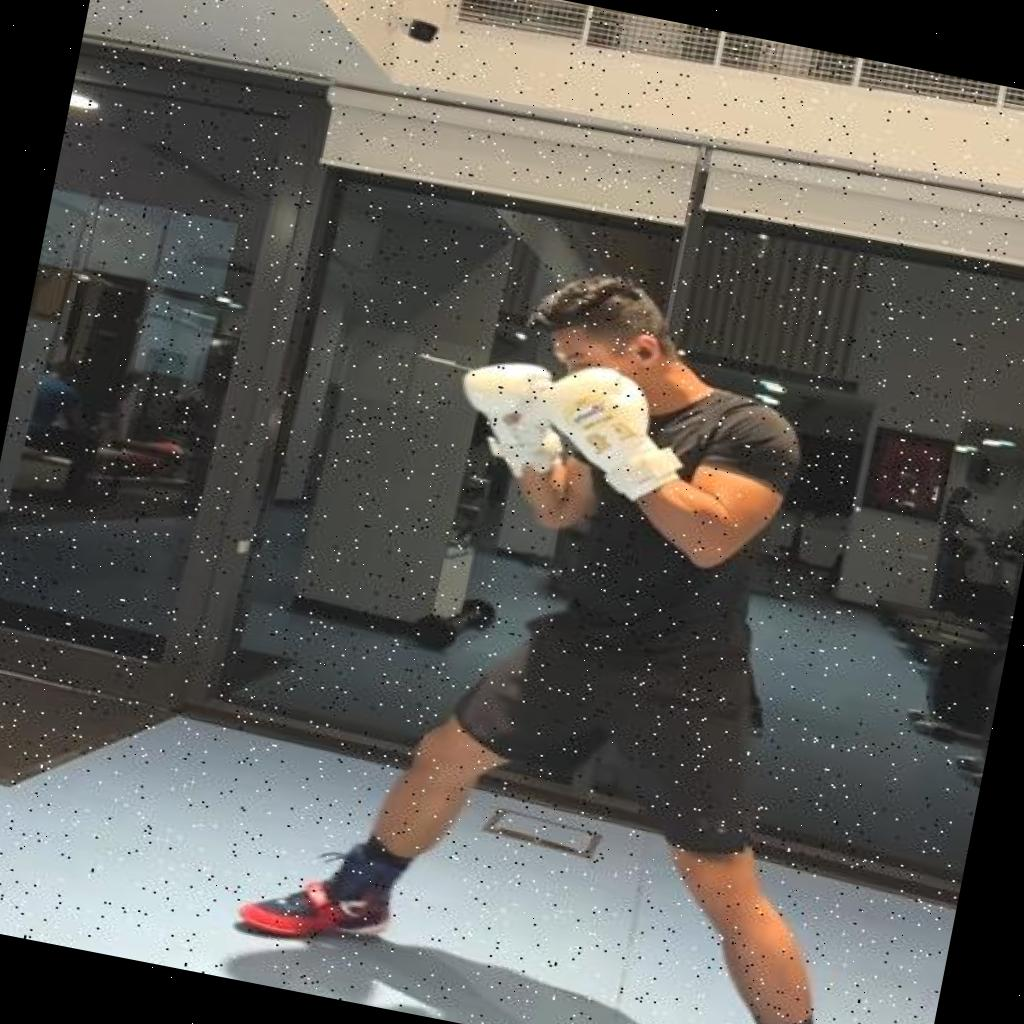no punch: (218, 227, 992, 1024)
